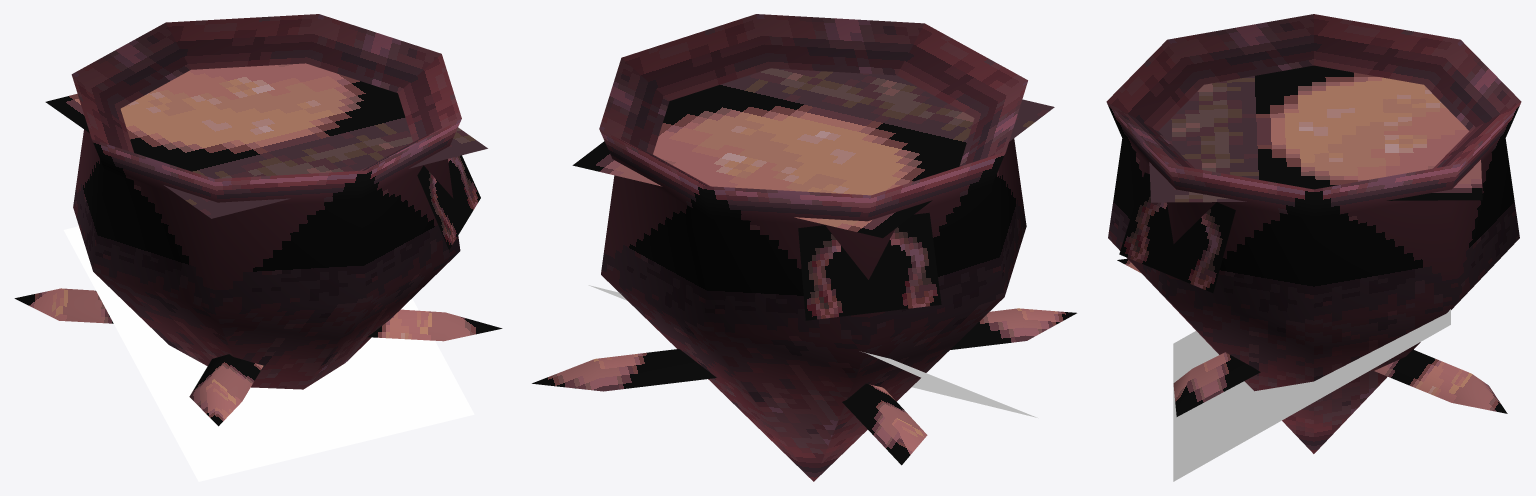
The picture shows the model from 3 angles, left to right: view 1: azimuth 30°, elevation 25°; view 2: azimuth 150°, elevation 25°; view 3: azimuth 270°, elevation 25°; orthographic projection. The views are drawn at different scales.
Parts seen in each view (by area): view 1: 3138IMFY01_10; view 2: 3138IMFY01_10; view 3: 3138IMFY01_10.
Boxes of the visible parts, box(x1,y1,x2,y2) form: 3138IMFY01_10: box(14, 14, 502, 481); 3138IMFY01_10: box(532, 14, 1076, 481); 3138IMFY01_10: box(1106, 14, 1521, 481).
Bounding box in the file's own units: 1.87 × 1.76 × 1.87.
4 materials, 4 textured.
